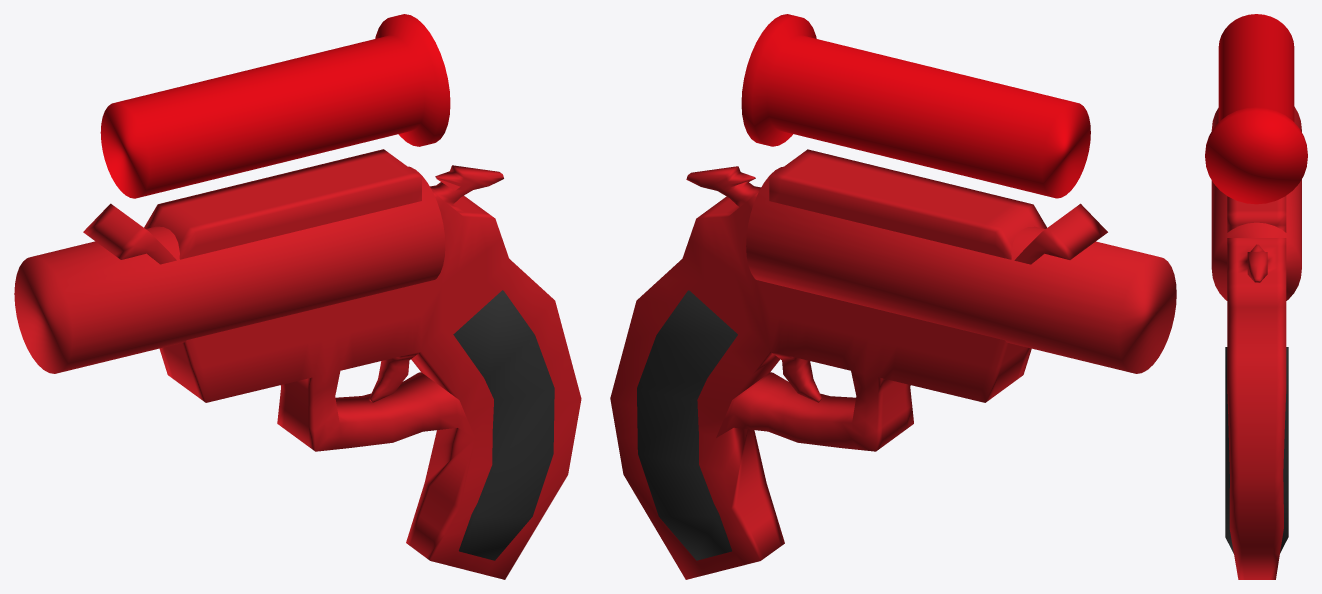
File: Flare Gun.fbx
3 renders of one model, left to right at view 1: azimuth 30°, elevation 25°; view 2: azimuth 150°, elevation 25°; view 3: azimuth 270°, elevation 25°, orthographic. The views are drawn at different scales.
Parts seen in each view (by area): view 1: Cube, Cylinder; view 2: Cube, Cylinder; view 3: Cube, Cylinder.
Boxes of the visible parts, <box> form: Cube: <box>14,149,581,579</box>; Cylinder: <box>100,14,450,198</box>; Cube: <box>610,149,1176,579</box>; Cylinder: <box>741,14,1090,198</box>; Cube: <box>1211,106,1301,579</box>; Cylinder: <box>1205,14,1307,204</box>.
Bounding box in the file's own units: 5.78 × 6.06 × 1.28.
